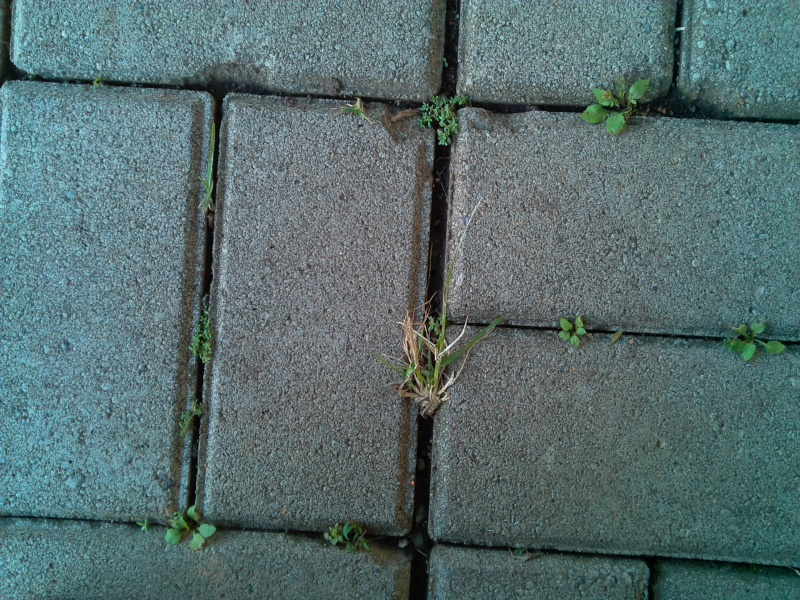Weed: (390, 305, 486, 421), (569, 68, 653, 146), (176, 297, 231, 372), (717, 316, 784, 368), (415, 90, 474, 147), (160, 502, 220, 558), (194, 151, 226, 218), (315, 518, 370, 556), (544, 311, 591, 353), (169, 396, 208, 441), (332, 92, 372, 128), (84, 65, 114, 102), (418, 311, 452, 343), (129, 511, 155, 541), (435, 51, 459, 76), (508, 541, 529, 561)
